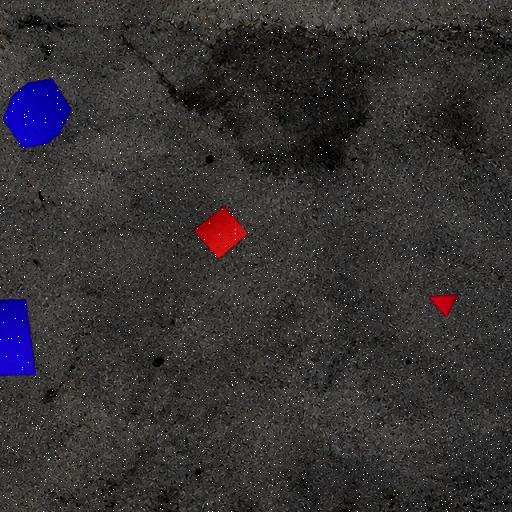RED_SQUARE: (192, 205, 249, 260)
